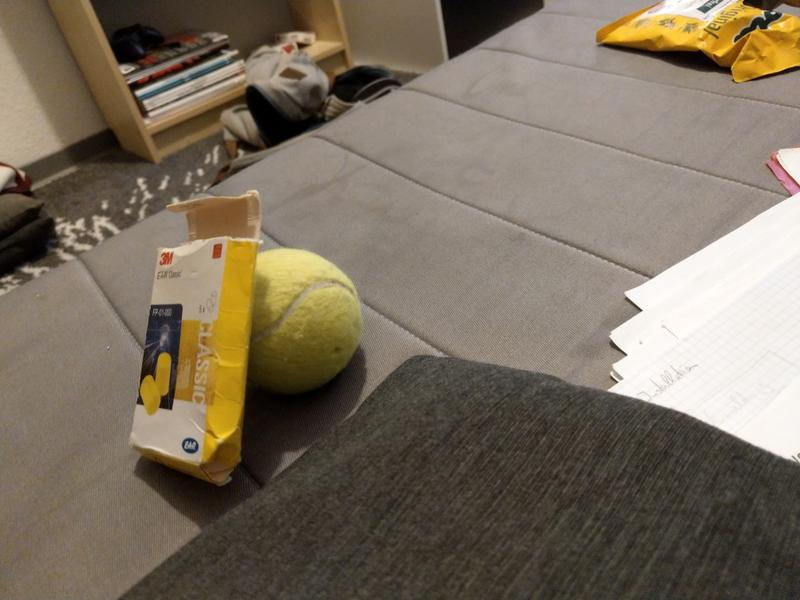Tennisball: (244, 247, 365, 396)
